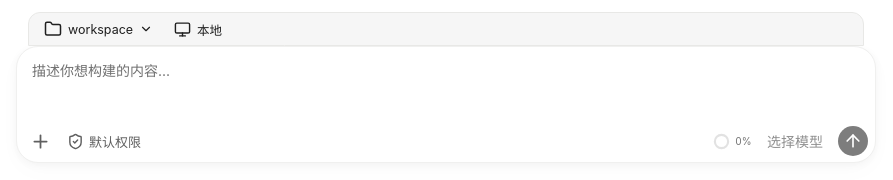
it: ChatComposer › 新草稿可复用最近一次 SDK 工具清单调整权限
Step 1. Click the button with aria-label "选择工具权限" → (105, 141), box [60, 126, 150, 156]
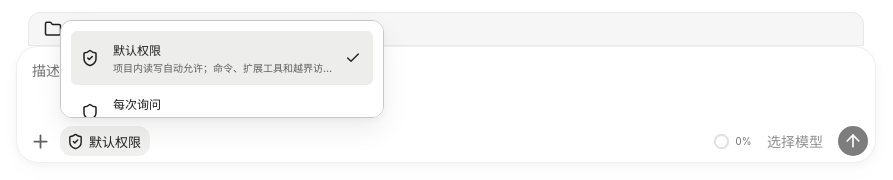
Now the menu named "工具权限" is shown, box [60, 20, 384, 118]
